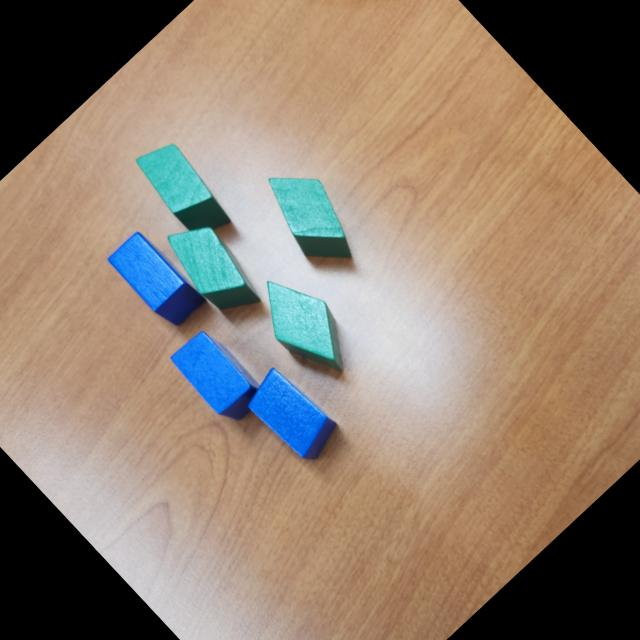blue: (241, 361, 346, 468), (105, 228, 208, 334), (167, 323, 270, 429)
green: (238, 256, 371, 392), (248, 152, 374, 280), (124, 127, 244, 250), (154, 206, 272, 328)
